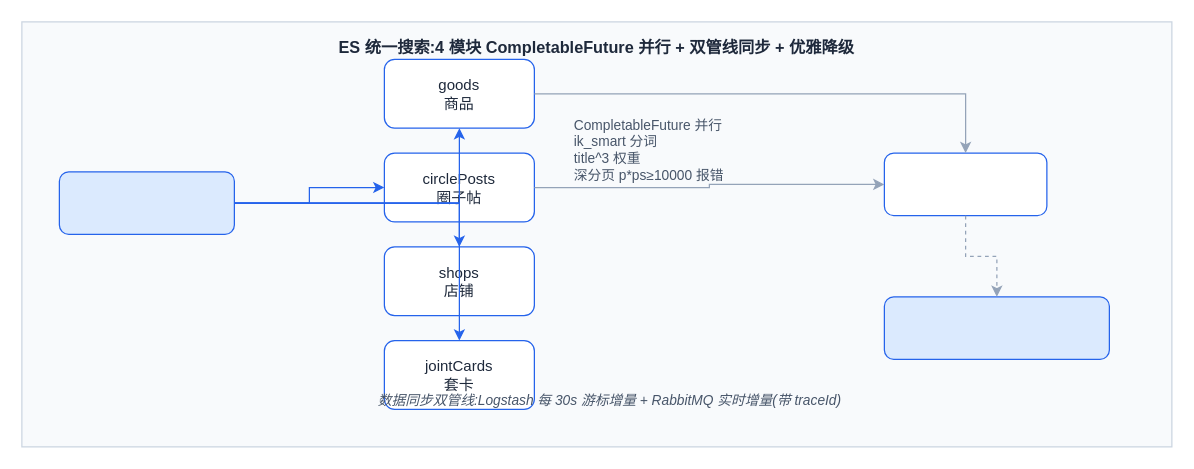
Some shapes in this 1194 by 469 pixel diagram are drawn without their labels. Each missing label, with the box of its shape:
全空 → 回退 租户 6 个商品推荐: (883, 296, 1109, 359)
合并结果: (883, 152, 1047, 216)
统一搜索请求: (58, 171, 234, 234)
